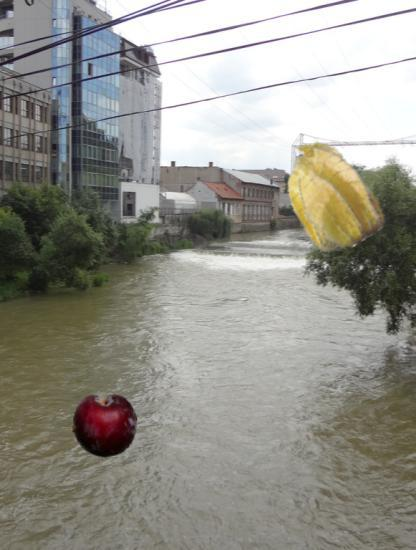Physalis: (268, 135, 387, 254)
Plum: (72, 392, 138, 458)
